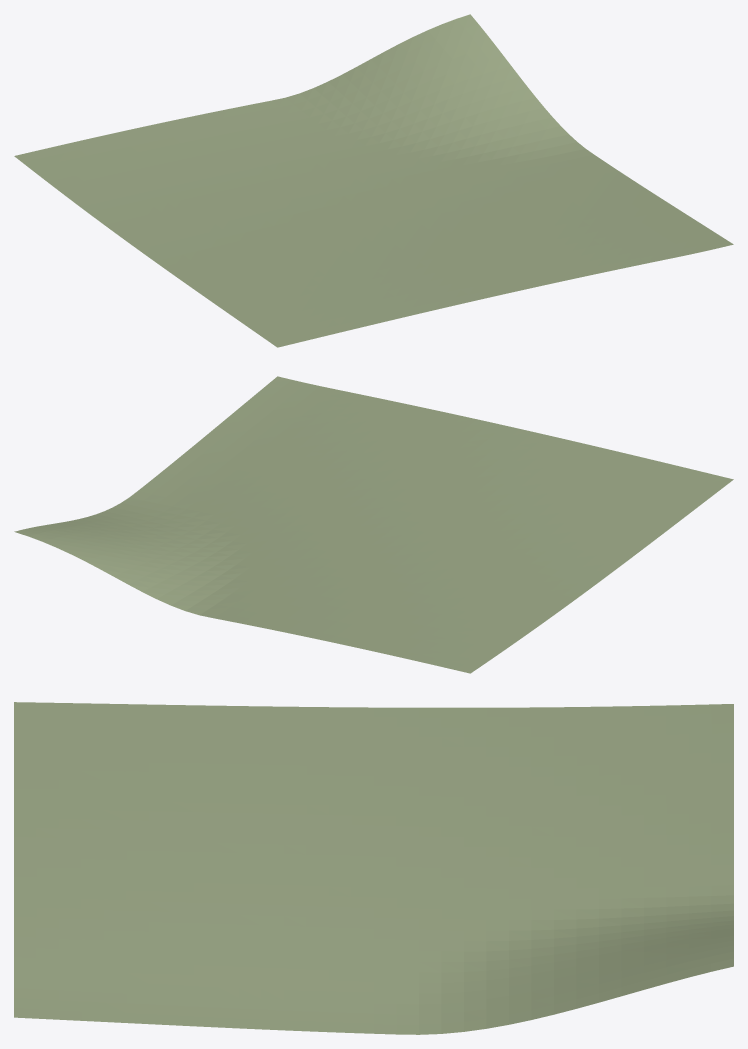
File: desert-21-9.glb
3 renders of one model, top to bottom at view 1: azimuth 30°, elevation 25°; view 2: azimuth 150°, elevation 25°; view 3: azimuth 270°, elevation 25°, orthographic. The views are drawn at different scales.
Visible parts, largest first — view 1: desert-21-9; view 2: desert-21-9; view 3: desert-21-9.
Part boxes in pixels (x1,y1,x2,y2): desert-21-9: [14, 14, 733, 347]; desert-21-9: [14, 376, 733, 673]; desert-21-9: [14, 702, 733, 1034].
Size of the model in its own units: 512 by 53.59 by 512.
